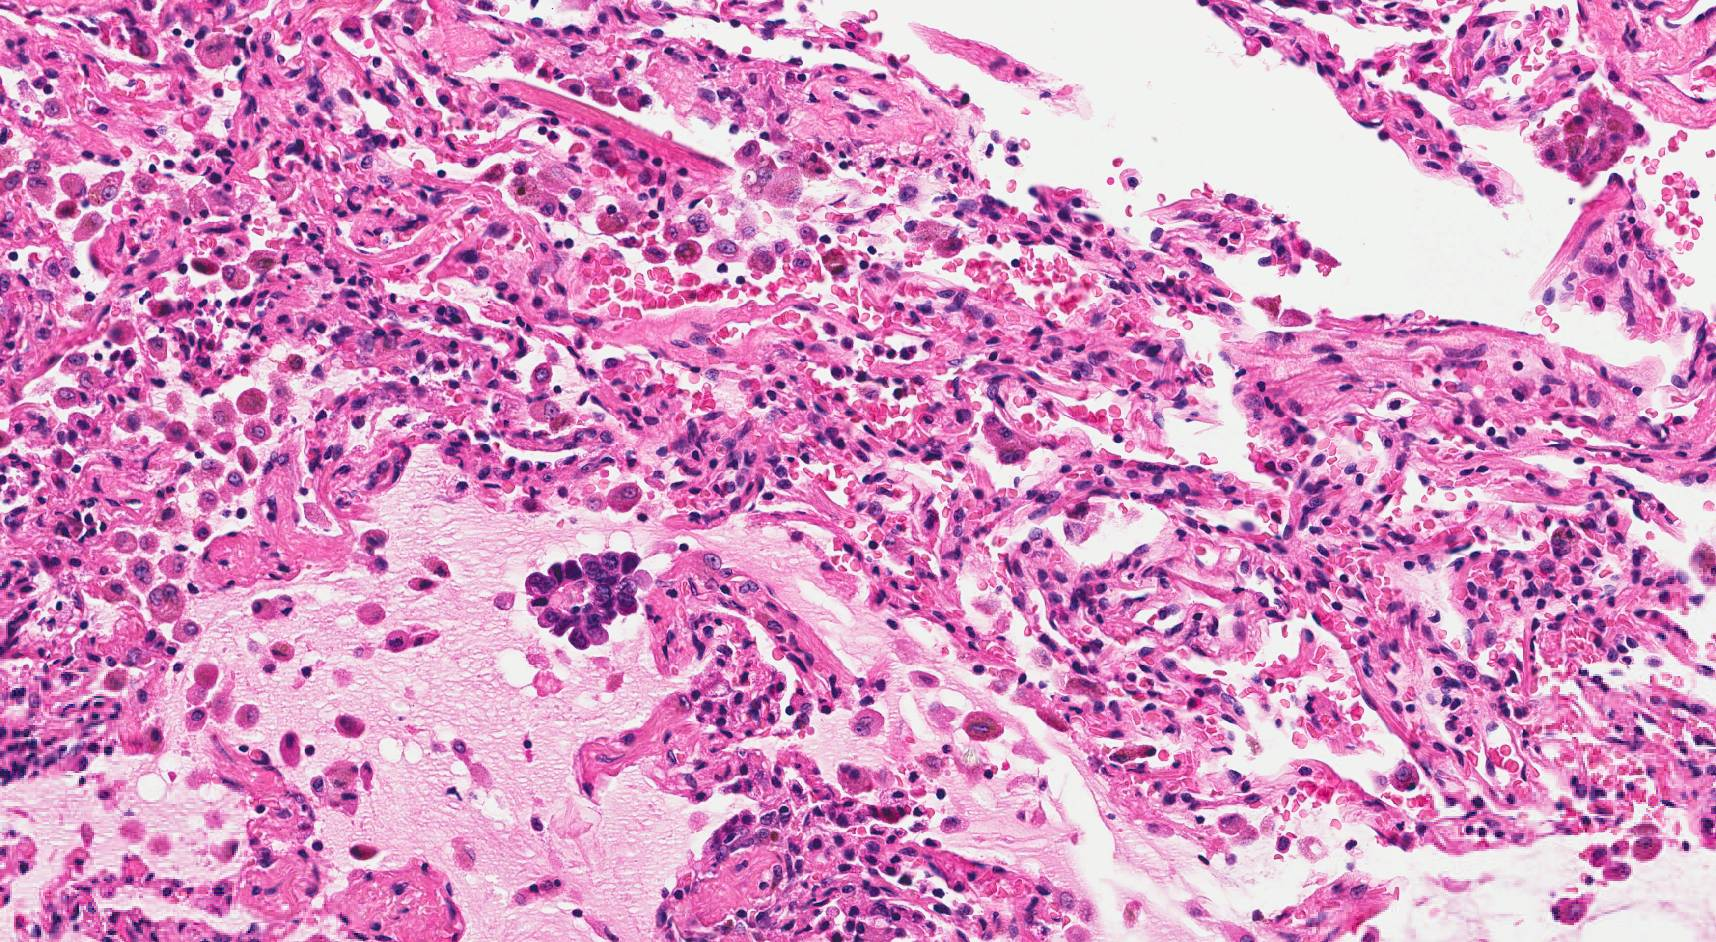stas: (522, 546, 651, 652)
